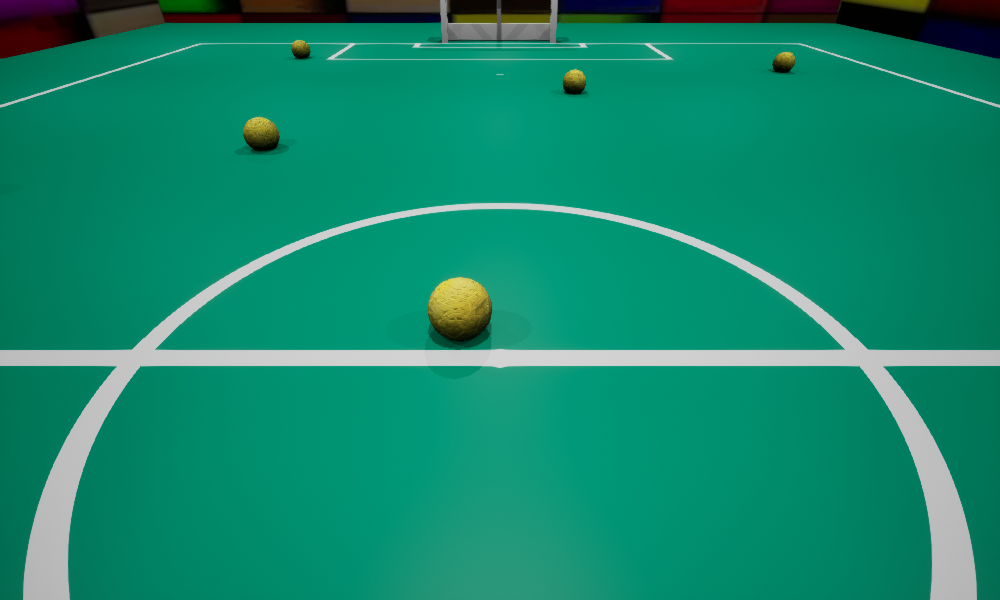b: (428, 277, 491, 340), (243, 117, 279, 150), (563, 69, 585, 93), (772, 52, 795, 72), (291, 40, 310, 58)
g: (440, 0, 557, 42)
